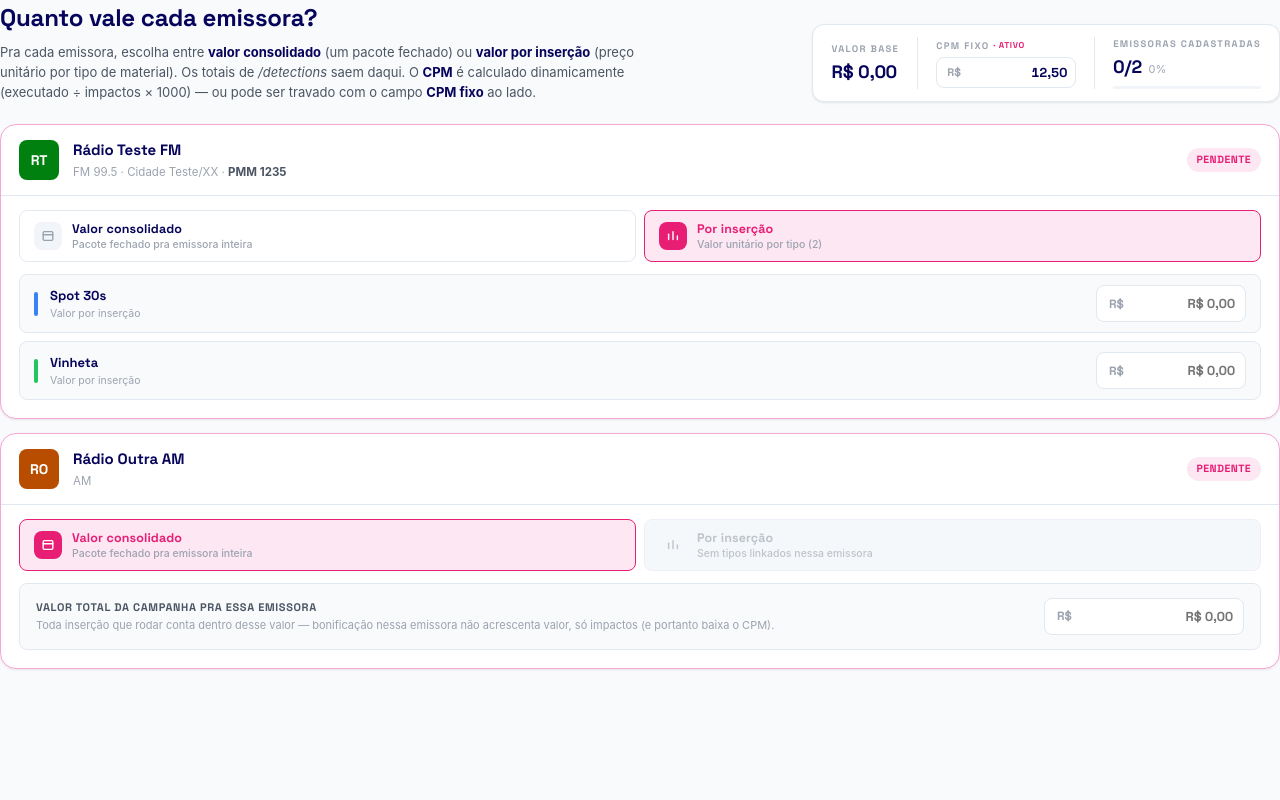
Test: PricingStep — CPM fixo › alterar o CPM fixo e salvar manda PUT /fixed-cpm com o número digitado
Expected: the text "Rádio Teste FM" is shown, [73,140,181,159]
Replace the text in the 1st field with "20": (1020, 72) [965,58,1075,87]
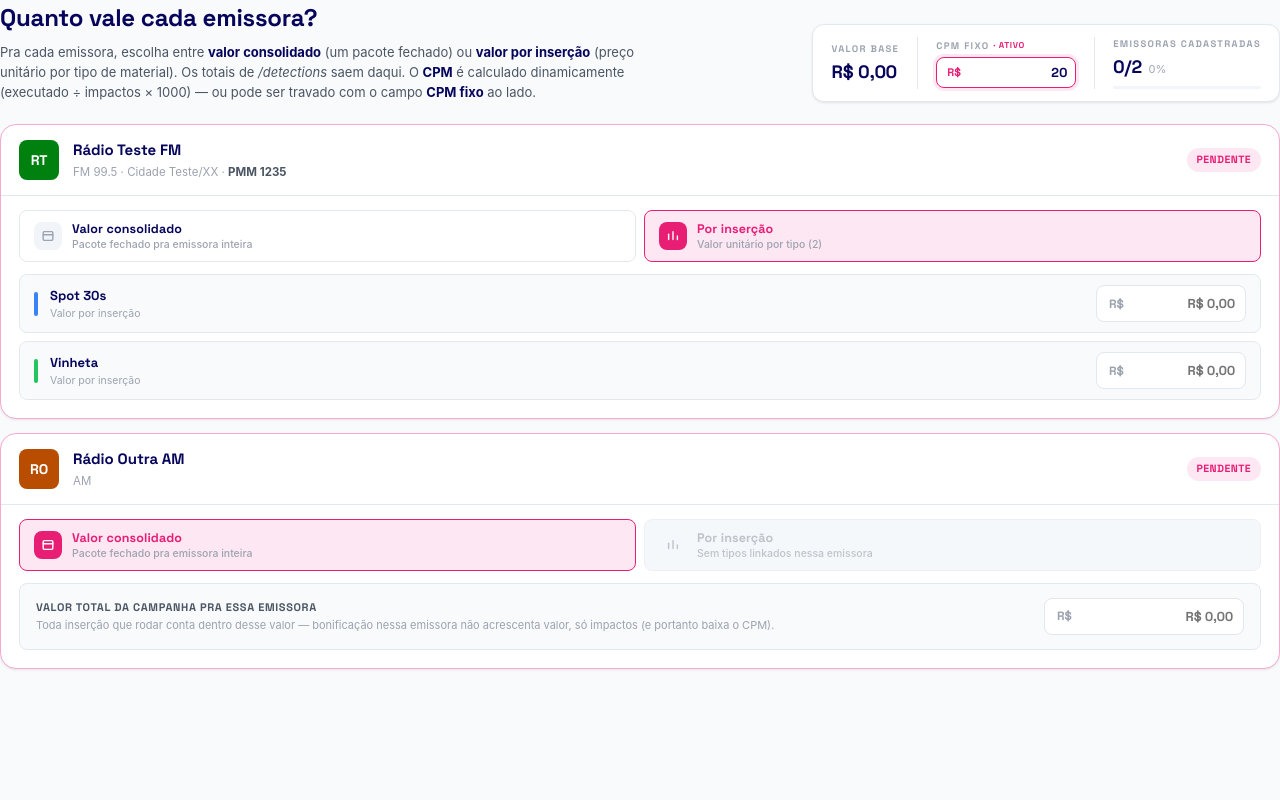
Leave the 1st field, box [965,58,1075,87]
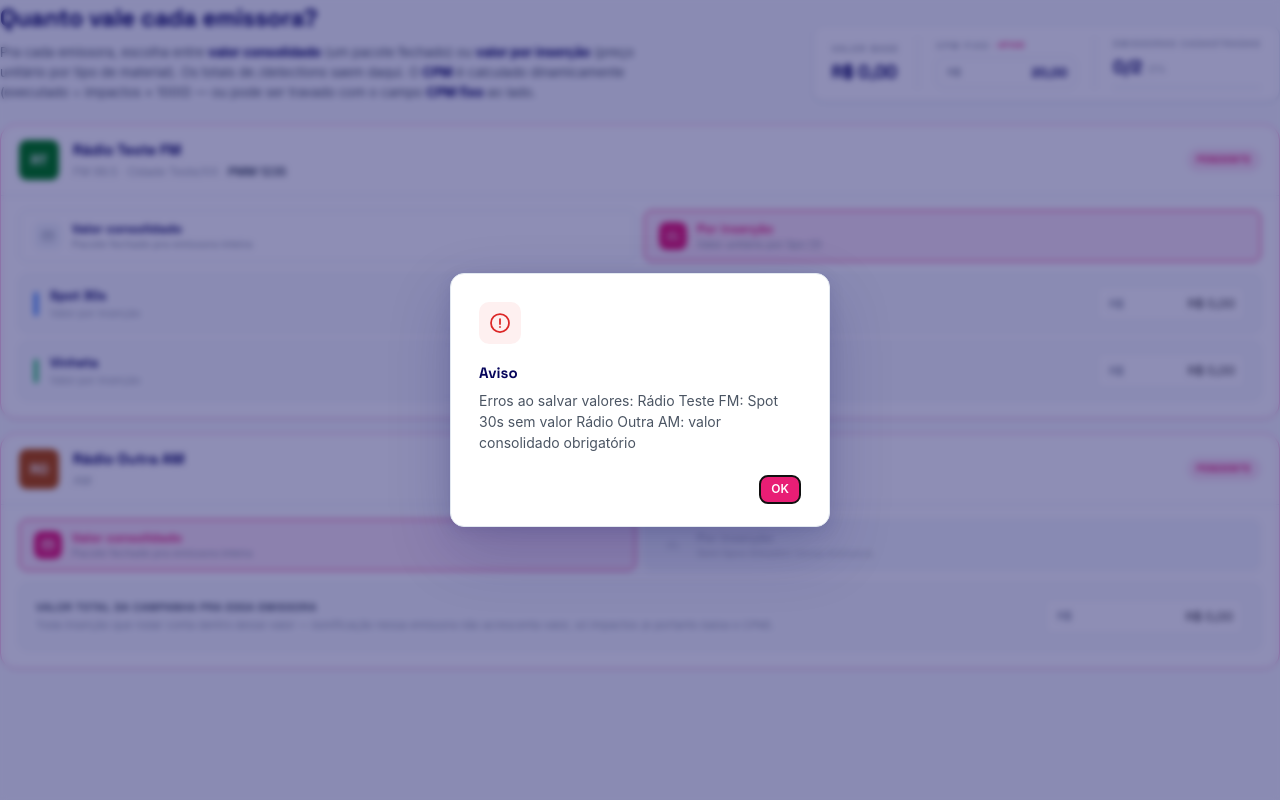
Result: the field holds "20,00" at [965,58,1075,87]
